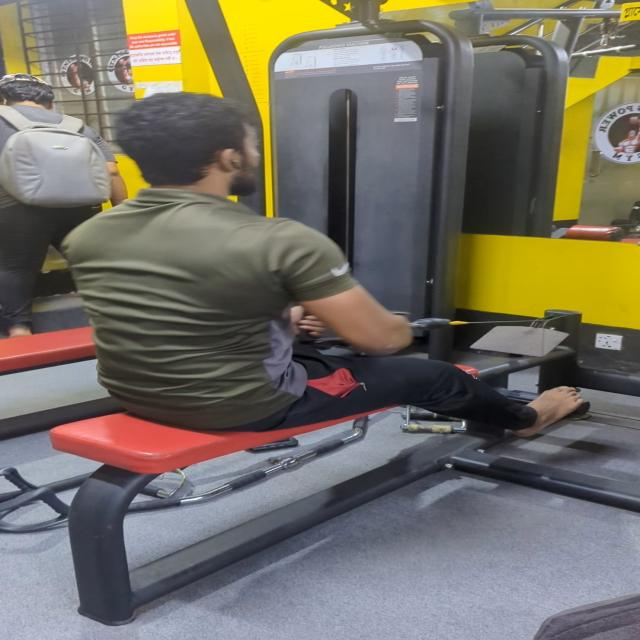Normal_RowingMachineExercise: (69, 70, 640, 516)
